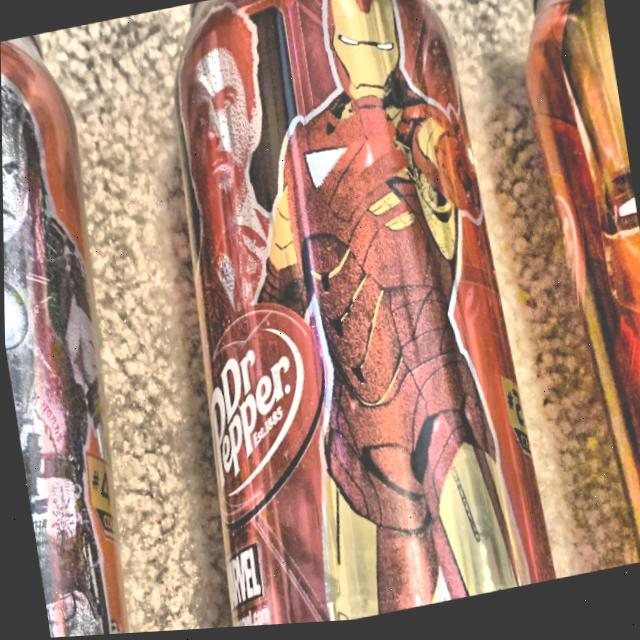metal: (126, 0, 568, 634)
